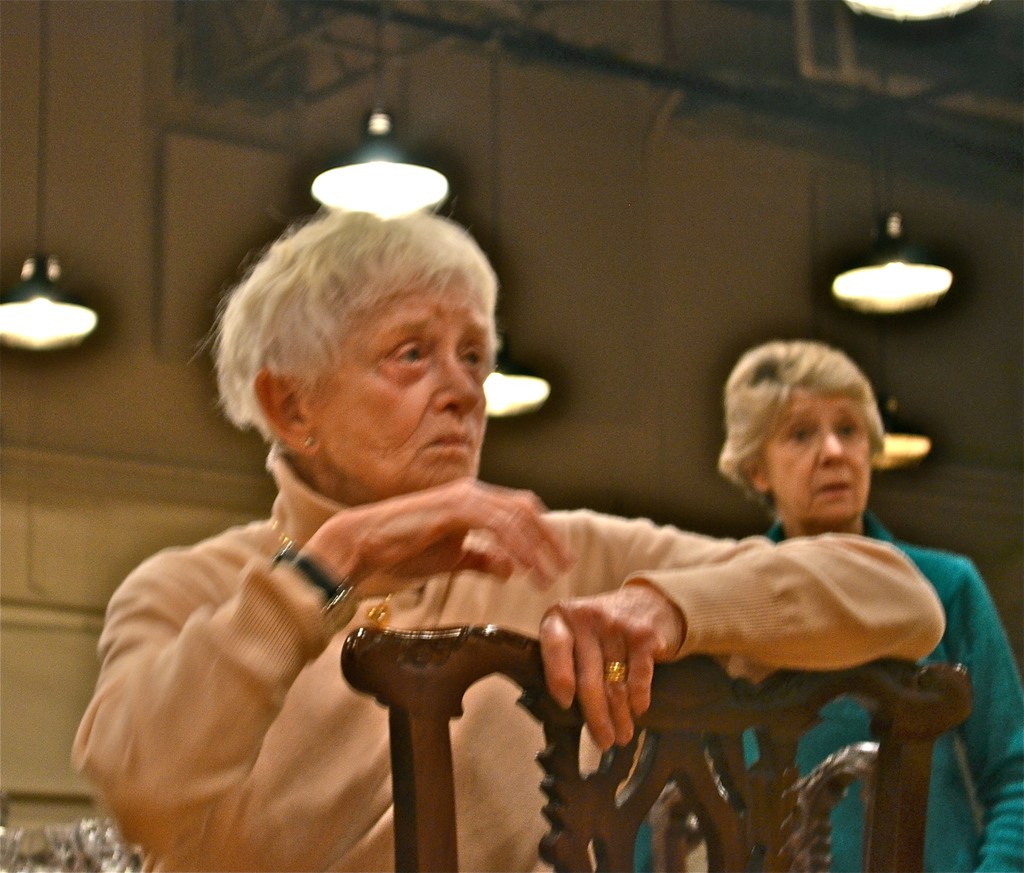Human_hand: (316, 475, 577, 596), (538, 574, 687, 752)
